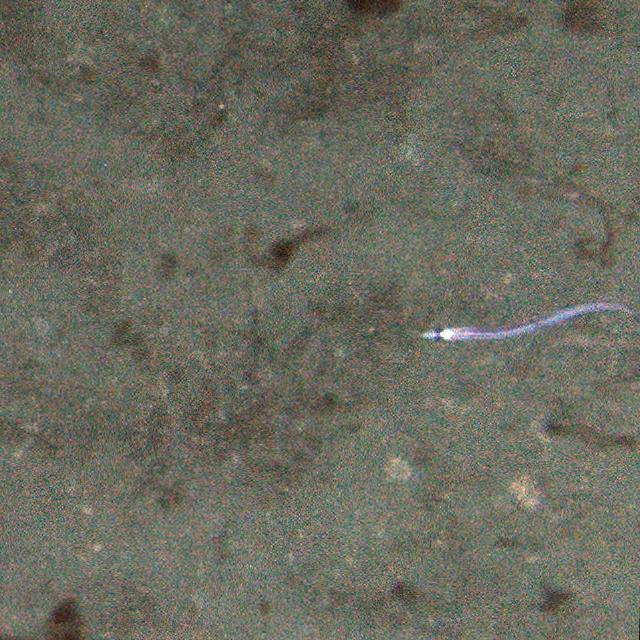eel: (416, 297, 638, 347)
